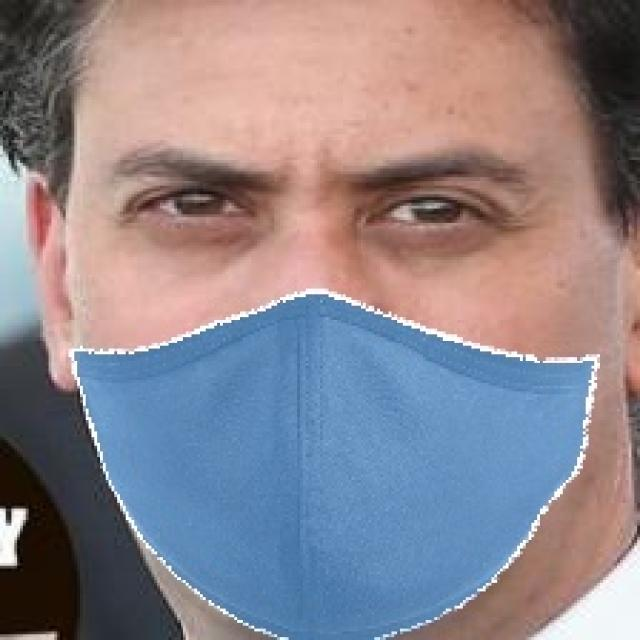mask: (47, 291, 621, 640)
